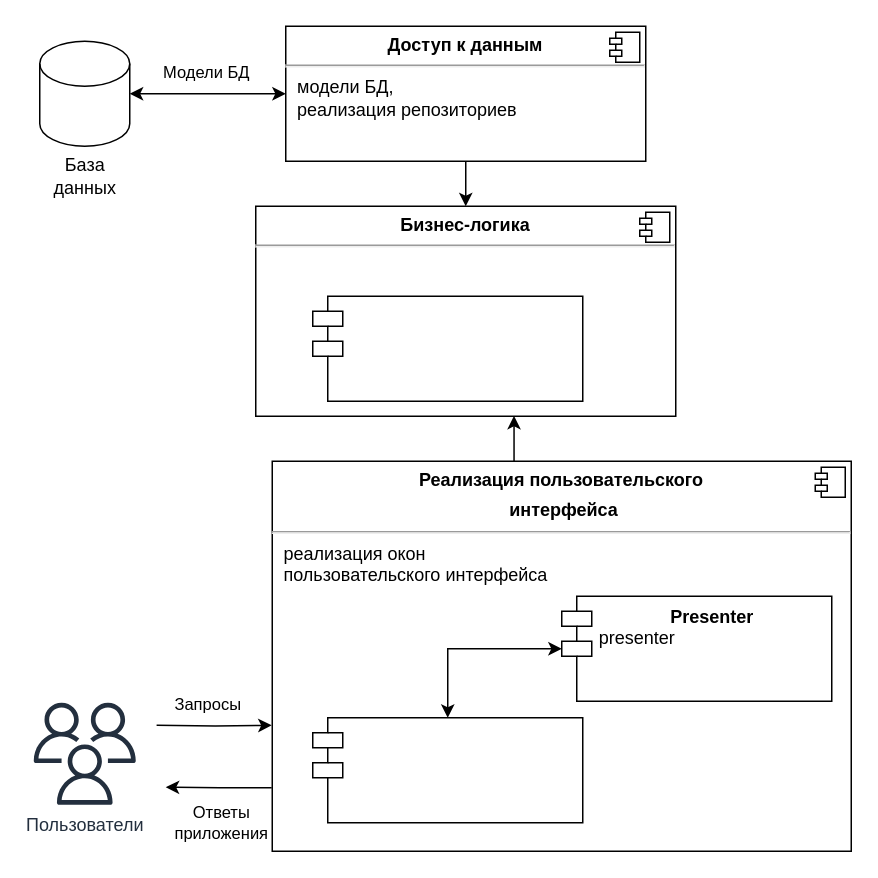
The diagram is 878 pixels wide and 878 high, and some of its shapes have lost their labels. Here are the shapes that lost their labels. From the top down, the box of each, then its label:
(311, 295, 583, 401): Model модели бизнес-логики, интерфейсы репозиториев,
(311, 716, 583, 823): View интерфейсы окон пользовательского интерфейса
